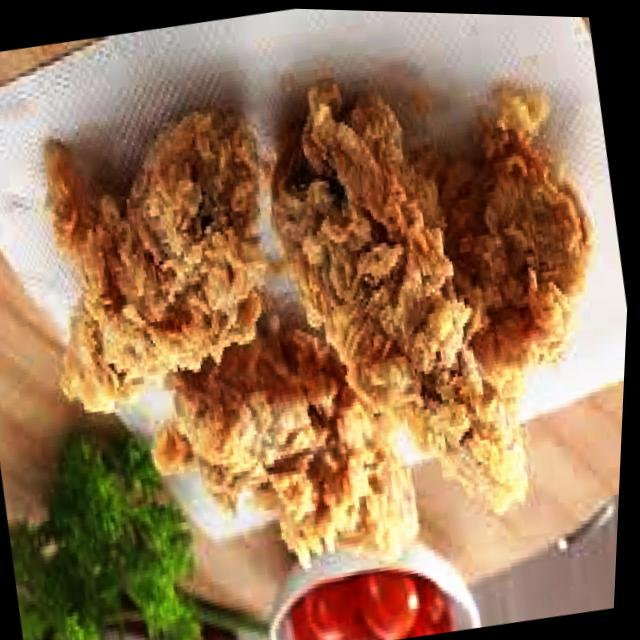fried_chicken: (20, 84, 445, 597), (236, 57, 551, 548), (352, 80, 626, 459), (19, 96, 304, 422)
